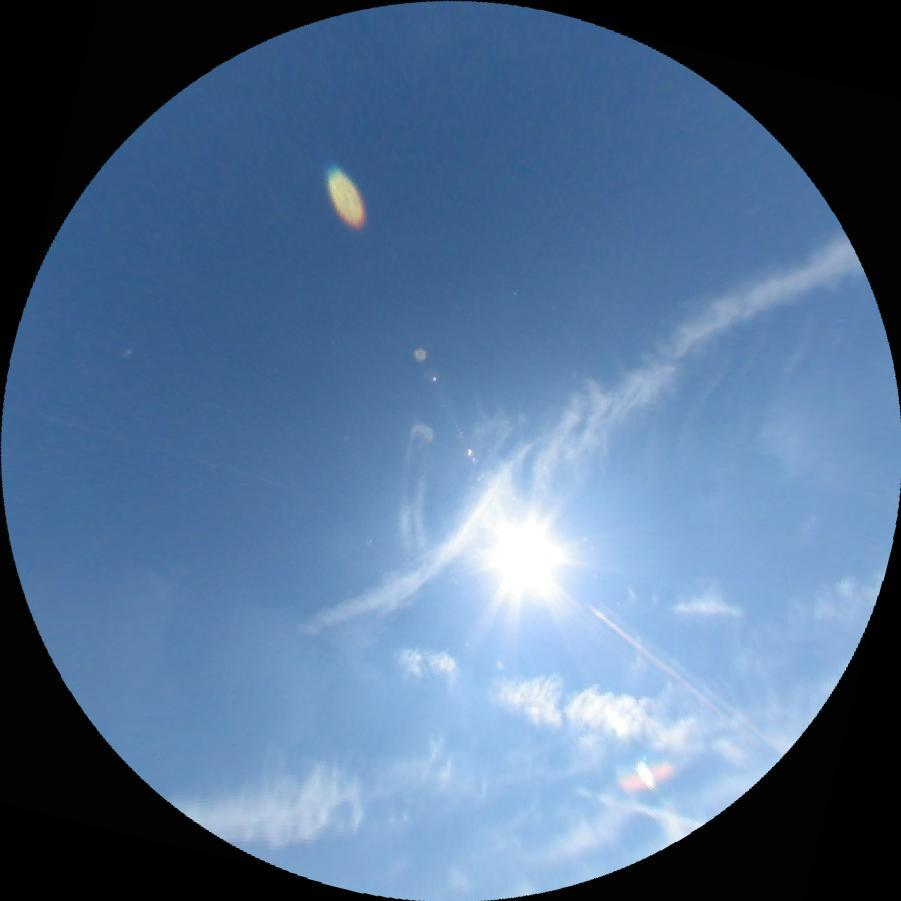contrail veryold: (280, 198, 871, 680)
parasite: (583, 601, 748, 737)
sun: (474, 506, 571, 605)
unknow: (571, 784, 707, 829)
